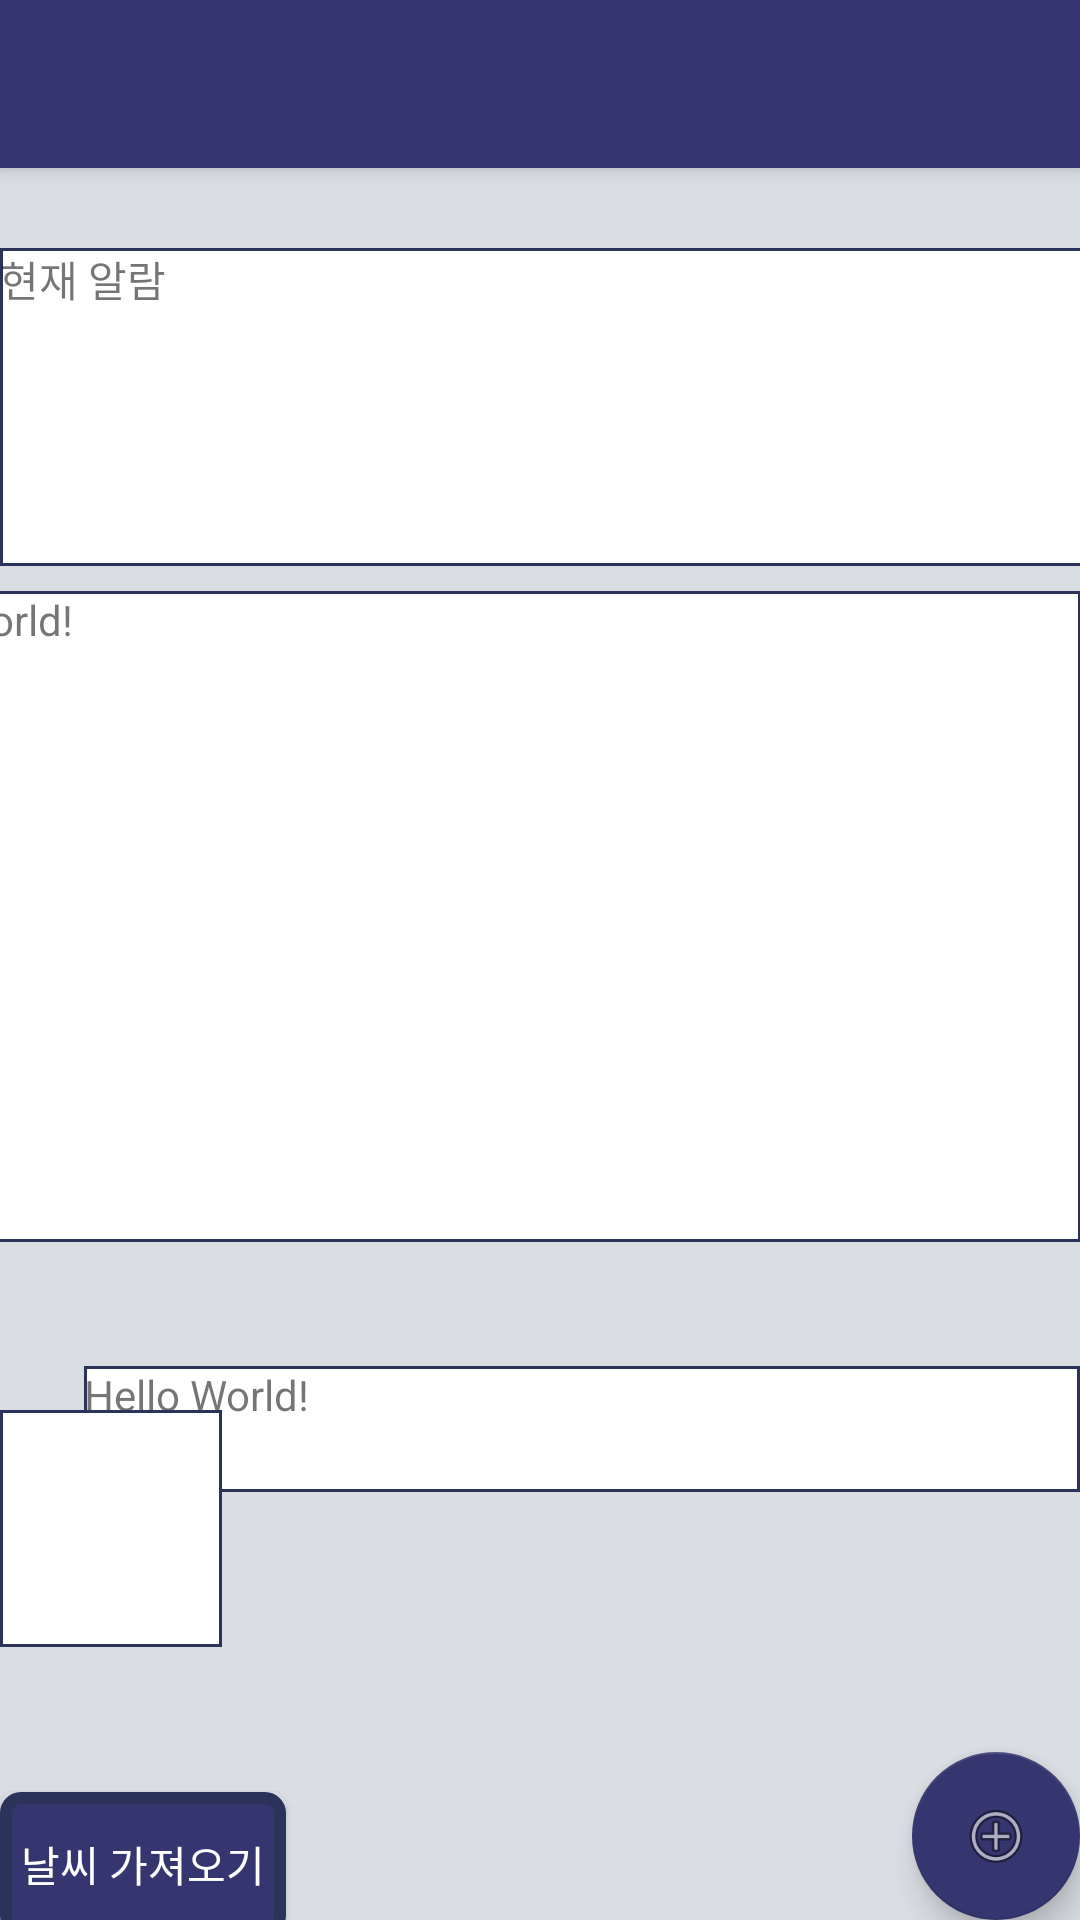

Screen size 1080px x 1920px. Icon name, then its box in pixels as detection(x1, y1, x2, y2):
add: detection(912, 1752, 1080, 1920)
